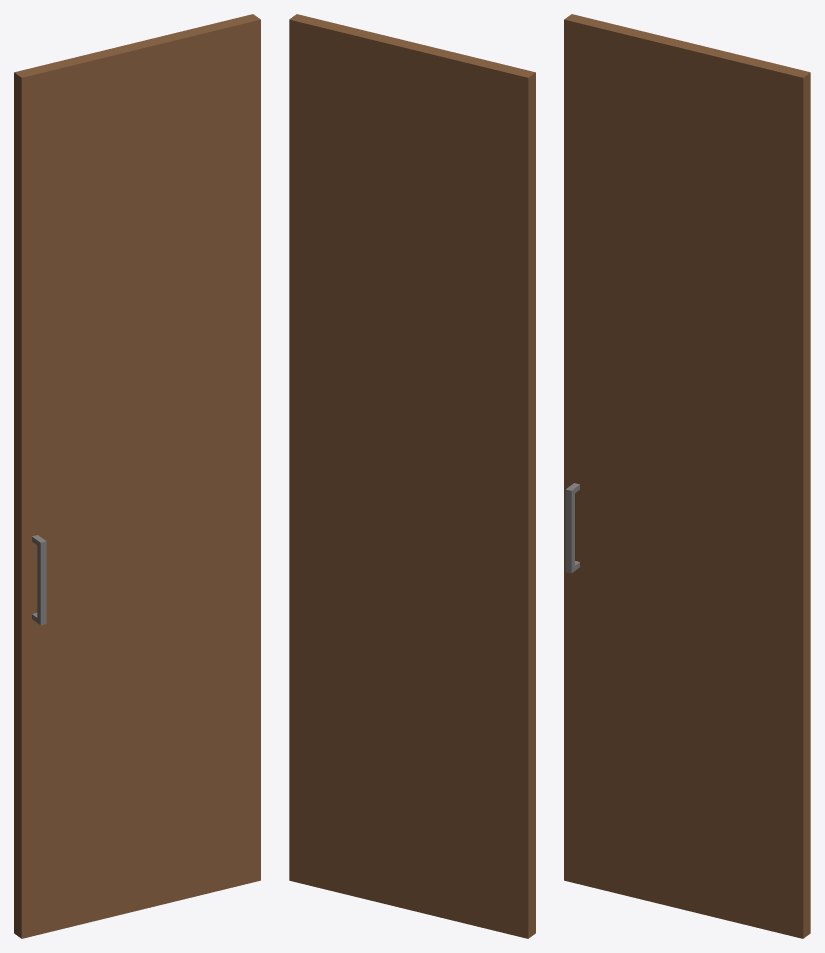
Rendered from Cupboard_03_03.fbx.
3 renders of one model, left to right at view 1: azimuth 30°, elevation 25°; view 2: azimuth 150°, elevation 25°; view 3: azimuth 330°, elevation 25°, orthographic.
Visible parts, largest first — view 1: Cupboard_03_03; view 2: Cupboard_03_03; view 3: Cupboard_03_03.
Boxes of the visible parts, box(x1,y1,x2,y2) form: Cupboard_03_03: box(14, 14, 260, 938); Cupboard_03_03: box(289, 14, 535, 938); Cupboard_03_03: box(564, 14, 810, 938).
Size of the model in its own units: 57.64 by 198 by 6.86.
